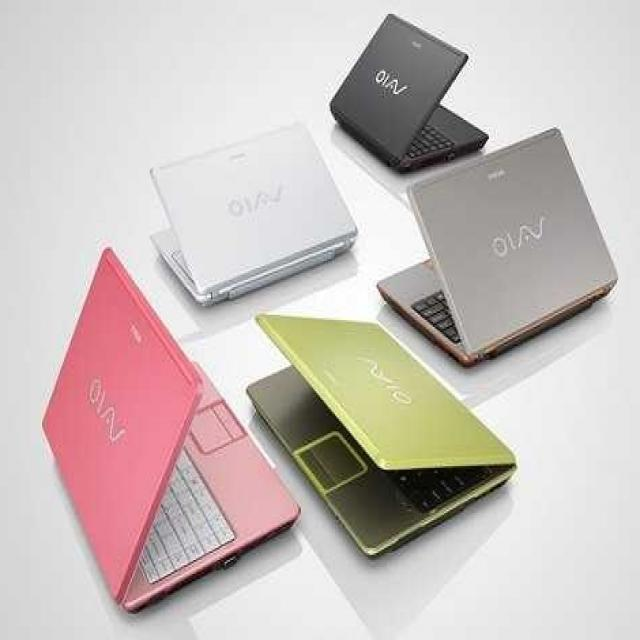laptop: (0, 298, 250, 582), (239, 304, 449, 536), (408, 148, 582, 354), (151, 117, 321, 289), (332, 8, 467, 152)
